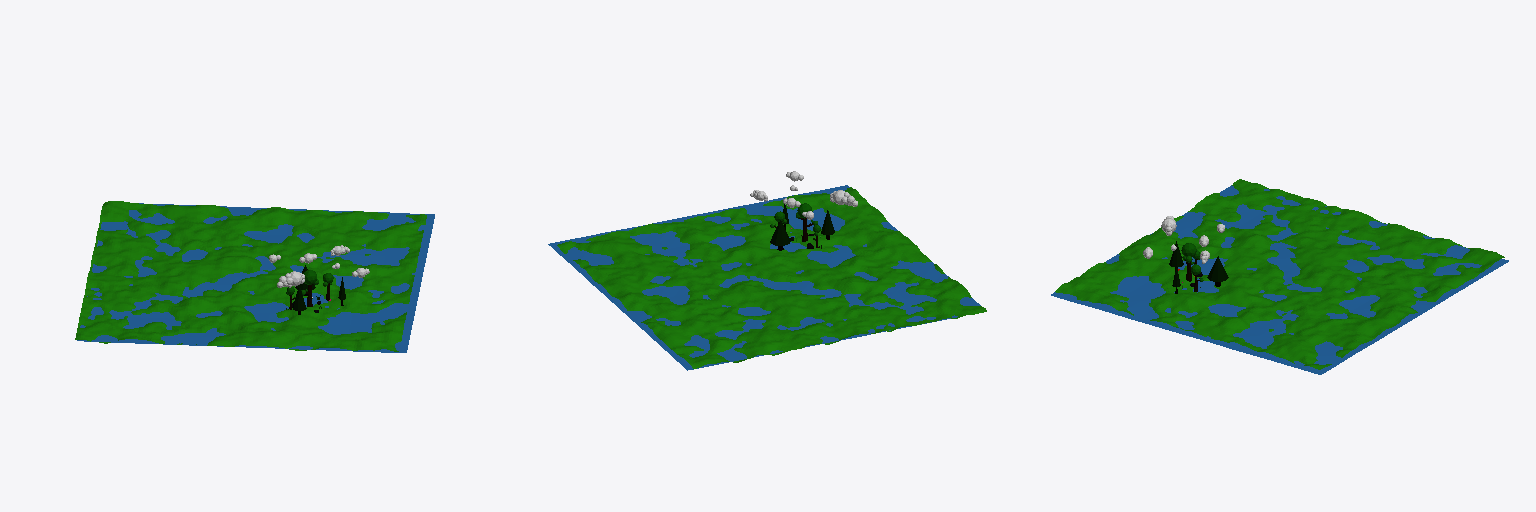
The model's file is assets.obj.
3 views of the same model, side by side, from view 1: azimuth 30°, elevation 25°; view 2: azimuth 150°, elevation 25°; view 3: azimuth 270°, elevation 25° (orthographic).
Visible parts, largest first — view 1: Plane, Plane.001; view 2: Plane, Plane.001; view 3: Plane, Plane.001.
Part boxes in pixels (bbox=[...]): Plane: bbox=[75, 201, 426, 351]; Plane.001: bbox=[77, 203, 434, 352]; Plane: bbox=[557, 187, 986, 368]; Plane.001: bbox=[548, 185, 980, 370]; Plane: bbox=[1055, 179, 1504, 369]; Plane.001: bbox=[1051, 185, 1508, 374].
Bounding box in the file's own units: 156 × 21.63 × 156.